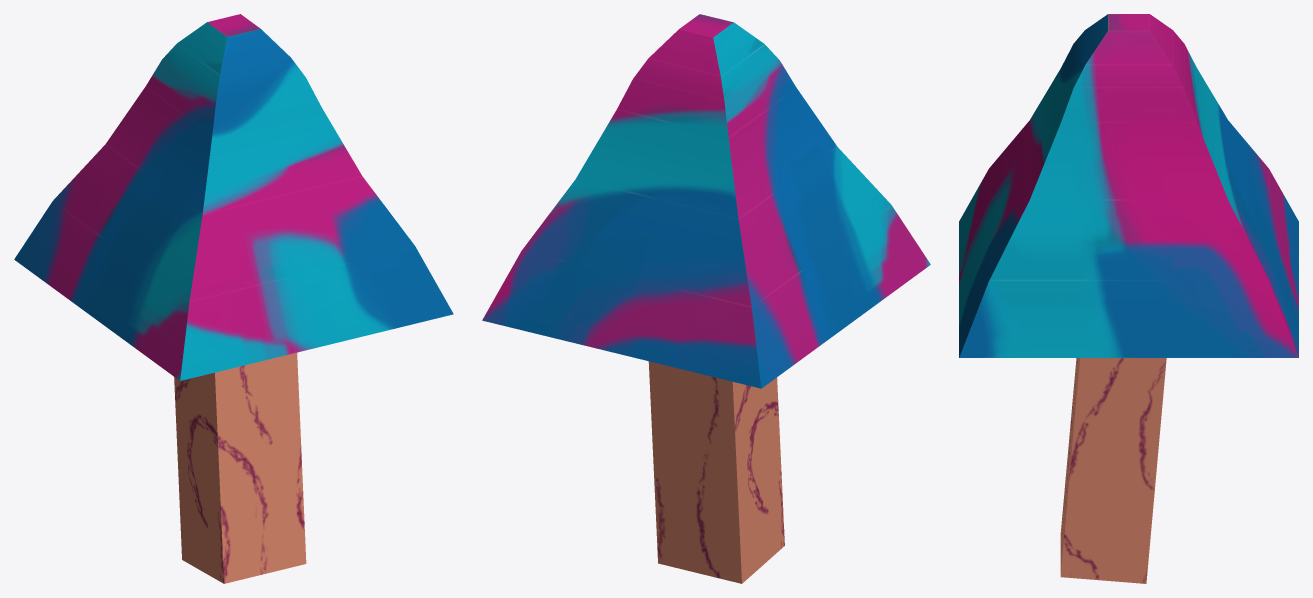
The model's file is Shroom 2 F.FBX.
3 renders of one model, left to right at view 1: azimuth 30°, elevation 25°; view 2: azimuth 150°, elevation 25°; view 3: azimuth 270°, elevation 25°, orthographic. The views are drawn at different scales.
Visible parts, largest first — view 1: Shroom 2; view 2: Shroom 2; view 3: Shroom 2.
Boxes of the visible parts, x1,y1,x2,y2 form: Shroom 2: [14, 14, 453, 583]; Shroom 2: [482, 14, 930, 583]; Shroom 2: [959, 14, 1298, 583].
Bounding box in the file's own units: 153 × 284 × 161.
